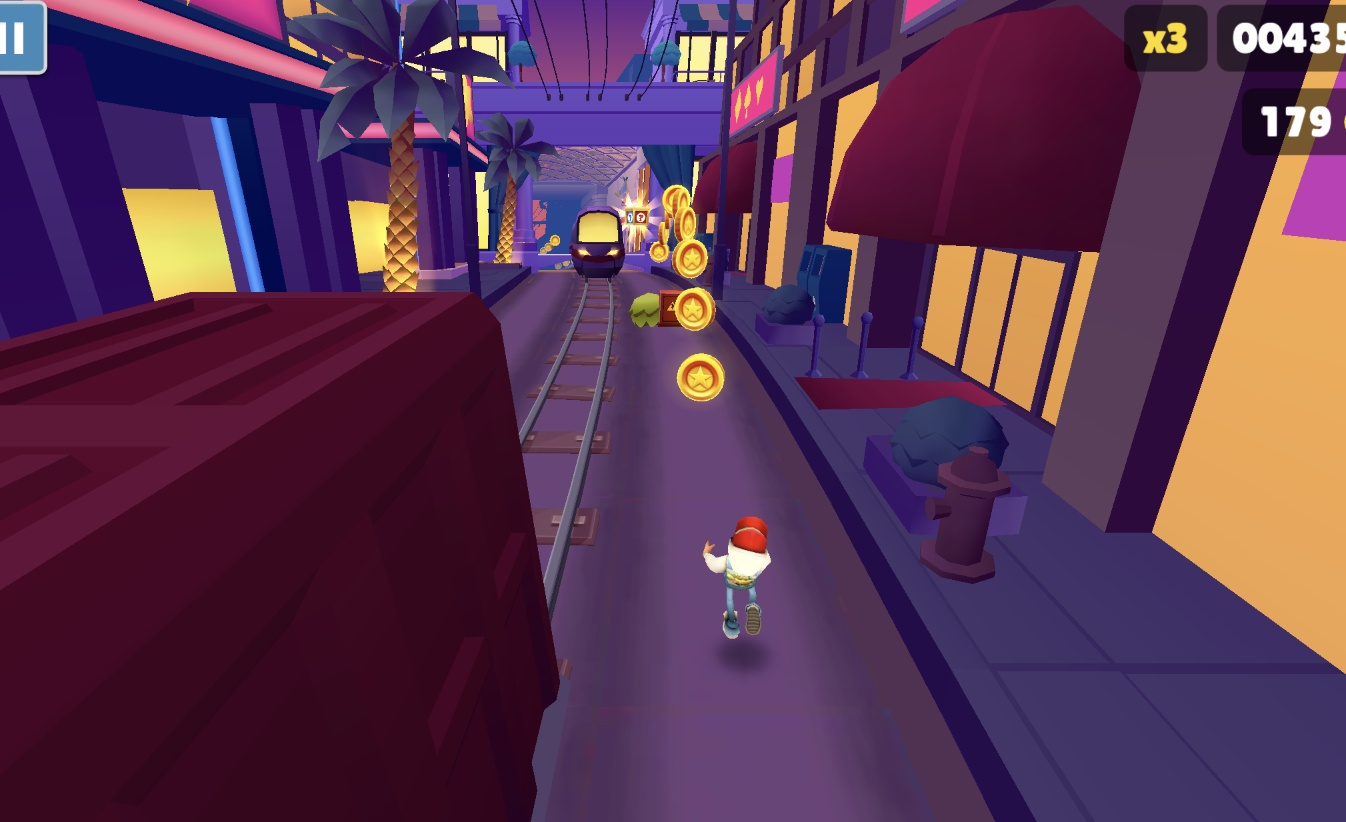bush: (629, 292, 661, 328)
small_obstacle: (658, 288, 685, 328)
train: (0, 291, 558, 822), (568, 195, 627, 281)
